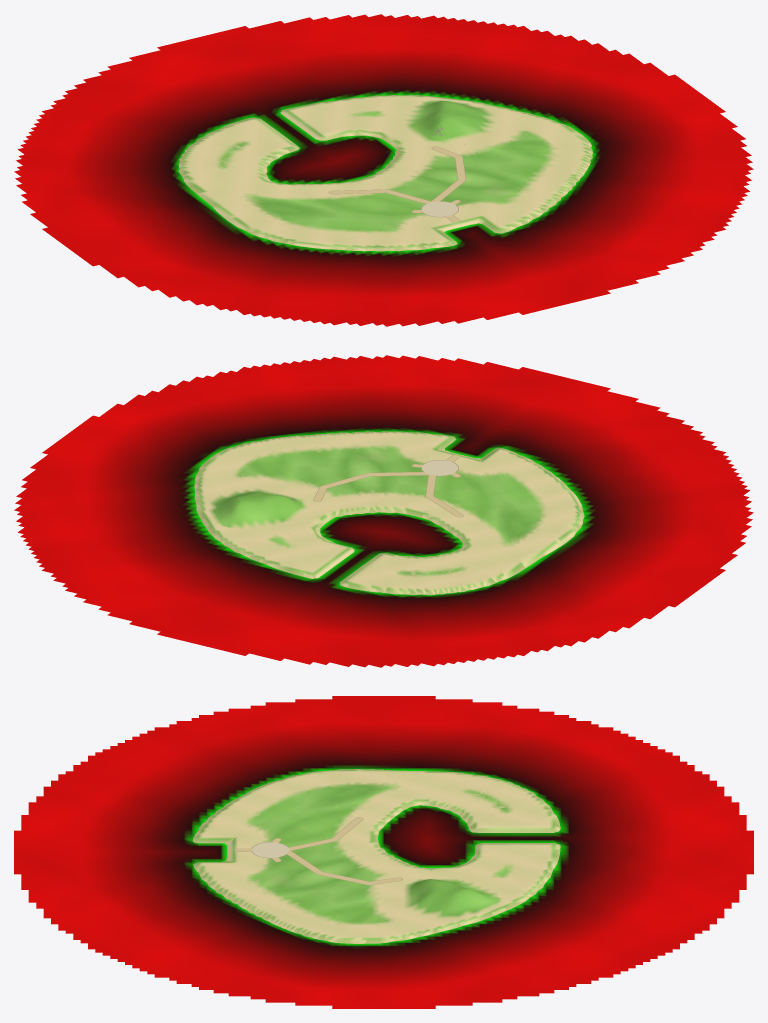
File: zone_coral.glb
3 renders of one model, top to bottom at view 1: azimuth 30°, elevation 25°; view 2: azimuth 150°, elevation 25°; view 3: azimuth 270°, elevation 25°, orthographic.
Parts seen in each view (by area): view 1: water, terrain_1_1, terrain_1_1__lod, terrain_2_1__lod, terrain_0_1, terrain_2_1, terrain_0_1__lod, terrain_1_2, terrain_1_2__lod, terrain_1_0, terrain_1_0__lod, paths (+6 smaller); view 2: water, terrain_1_1, terrain_1_1__lod, terrain_2_1__lod, terrain_0_1, terrain_2_1, terrain_0_1__lod, terrain_1_0, terrain_1_2, terrain_1_2__lod, terrain_1_0__lod, paths (+8 smaller); view 3: water, terrain_1_1, terrain_1_1__lod, terrain_2_1__lod, terrain_2_1, terrain_0_1, terrain_0_1__lod, terrain_1_0, terrain_1_2, terrain_1_2__lod, terrain_1_0__lod, paths (+7 smaller).
Part boxes in pixels (<box>): water: <box>14,14,753,326</box>; terrain_1_1: <box>251,114,516,224</box>; terrain_1_1__lod: <box>251,111,512,222</box>; terrain_2_1__lod: <box>420,101,592,183</box>; terrain_0_1: <box>182,155,346,239</box>; terrain_2_1: <box>427,101,592,182</box>; terrain_0_1__lod: <box>180,153,347,242</box>; terrain_1_2: <box>348,183,547,250</box>; terrain_1_2__lod: <box>352,184,548,251</box>; terrain_1_0: <box>217,95,412,150</box>; terrain_1_0__lod: <box>217,95,418,152</box>; paths: <box>328,146,466,222</box>; water: <box>14,355,753,667</box>; terrain_1_1: <box>262,453,516,565</box>; terrain_1_1__lod: <box>251,455,510,564</box>; terrain_2_1__lod: <box>194,438,344,523</box>; terrain_0_1: <box>425,494,582,582</box>; terrain_2_1: <box>196,437,347,519</box>; terrain_0_1__lod: <box>420,494,584,584</box>; terrain_1_0: <box>227,526,419,592</box>; terrain_1_2: <box>349,431,547,493</box>; terrain_1_2__lod: <box>350,431,550,493</box>; terrain_1_0__lod: <box>224,524,418,592</box>; paths: <box>313,454,463,517</box>; water: <box>14,696,753,1008</box>; terrain_1_1: <box>285,808,482,891</box>; terrain_1_1__lod: <box>285,808,482,891</box>; terrain_2_1__lod: <box>285,883,482,943</box>; terrain_2_1: <box>285,880,482,943</box>; terrain_0_1: <box>285,769,482,810</box>; terrain_0_1__lod: <box>285,769,482,810</box>; terrain_1_0: <box>482,808,560,892</box>; terrain_1_2: <box>196,808,285,893</box>; terrain_1_2__lod: <box>192,808,285,893</box>; terrain_1_0__lod: <box>482,808,560,893</box>; paths: <box>235,817,402,885</box>.
Bounding box in the file's own units: 300 × 10.76 × 300.
